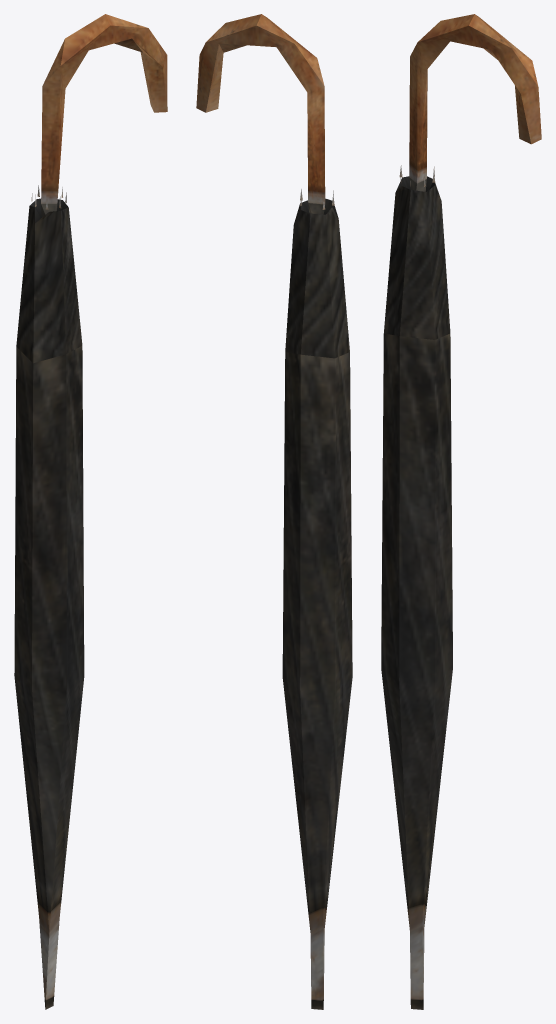
File: umbrella.lod1.glb
3 views of the same model, side by side, from view 1: azimuth 30°, elevation 25°; view 2: azimuth 150°, elevation 25°; view 3: azimuth 330°, elevation 25° (orthographic). The views are drawn at different scales.
Visible parts, largest first — view 1: umbrella; view 2: umbrella; view 3: umbrella.
Part boxes in pixels (x1=…): umbrella: x1=14, y1=14, x2=167, y2=1009; umbrella: x1=196, y1=14, x2=352, y2=1009; umbrella: x1=381, y1=14, x2=541, y2=1009.
Size of the model in its own units: 0.1483 by 0.9575 by 0.0618.
1 material, 1 textured.
